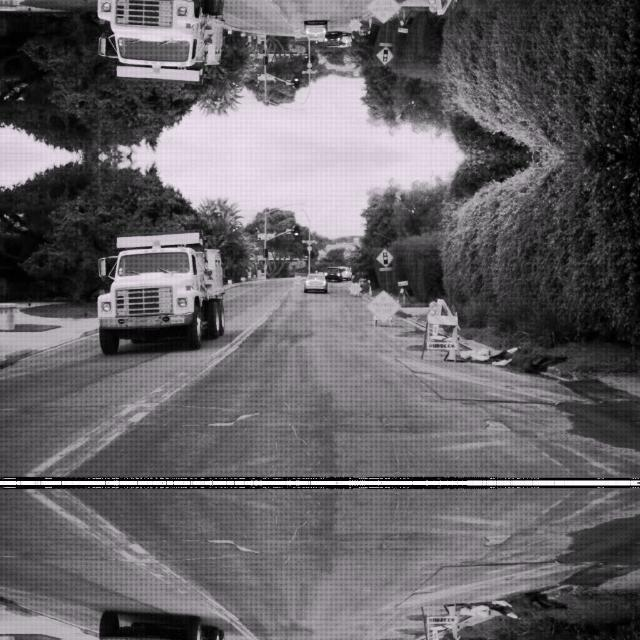signalAhead: (375, 246, 393, 266), (375, 46, 393, 66)
